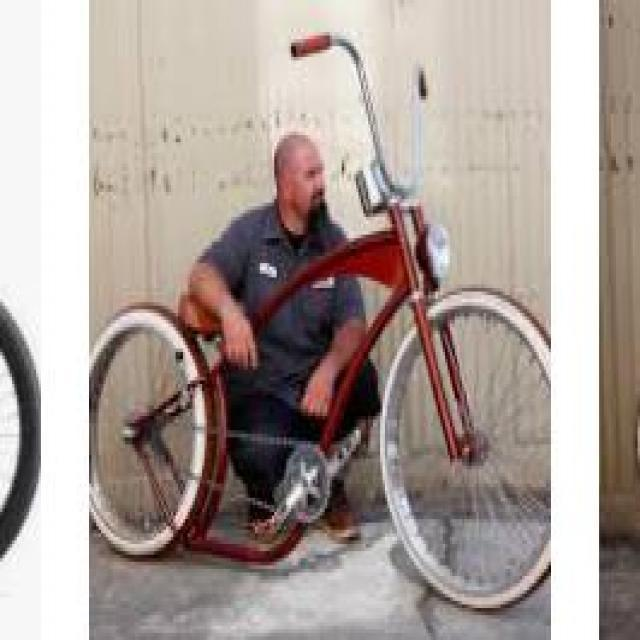bicycle: (112, 157, 553, 595)
